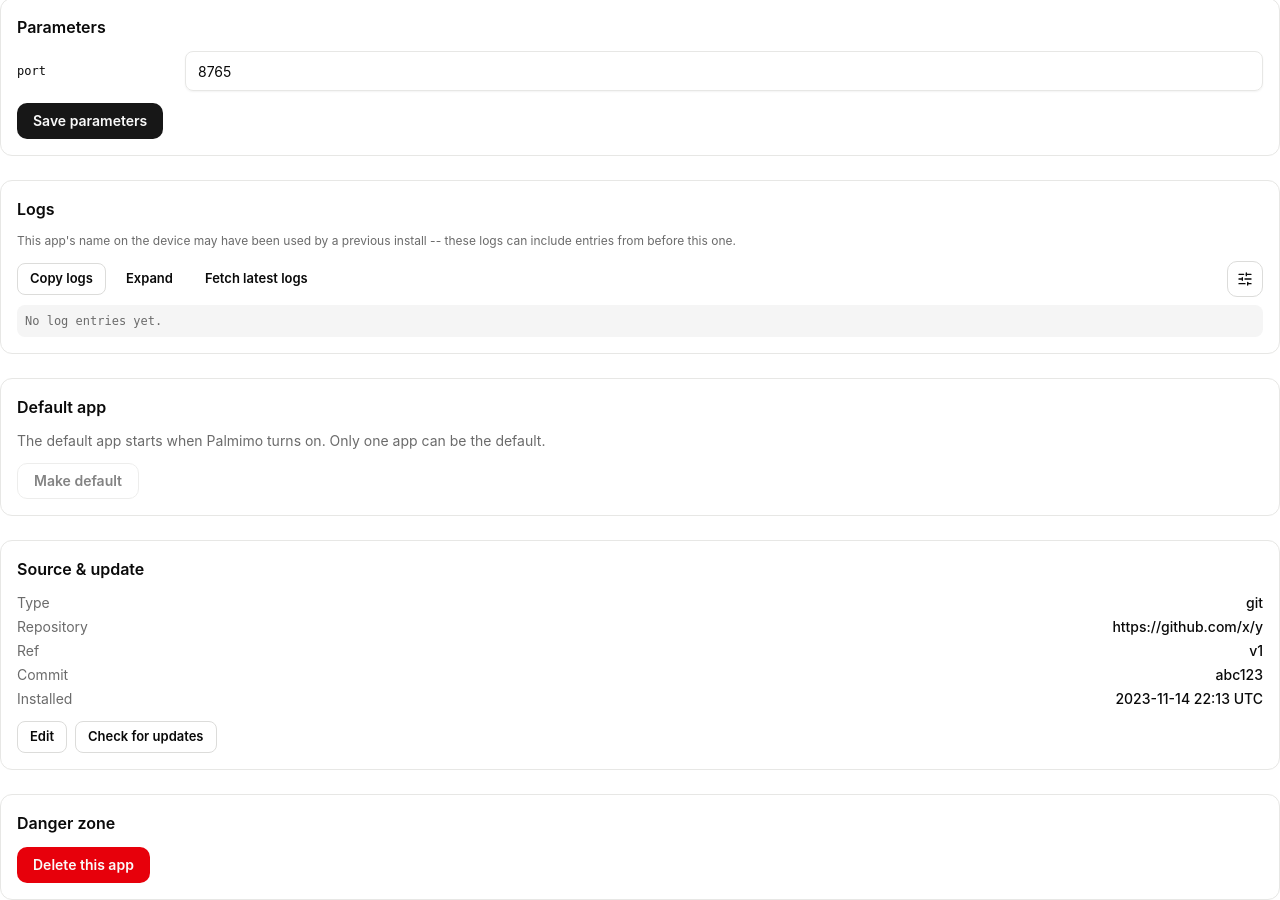
Test: warns that saving a community ref opts out of catalog updates
(page scrolled)
Click the button "Edit".
click(42, 737)  # box top-left (17, 721), bottom-right (67, 753)
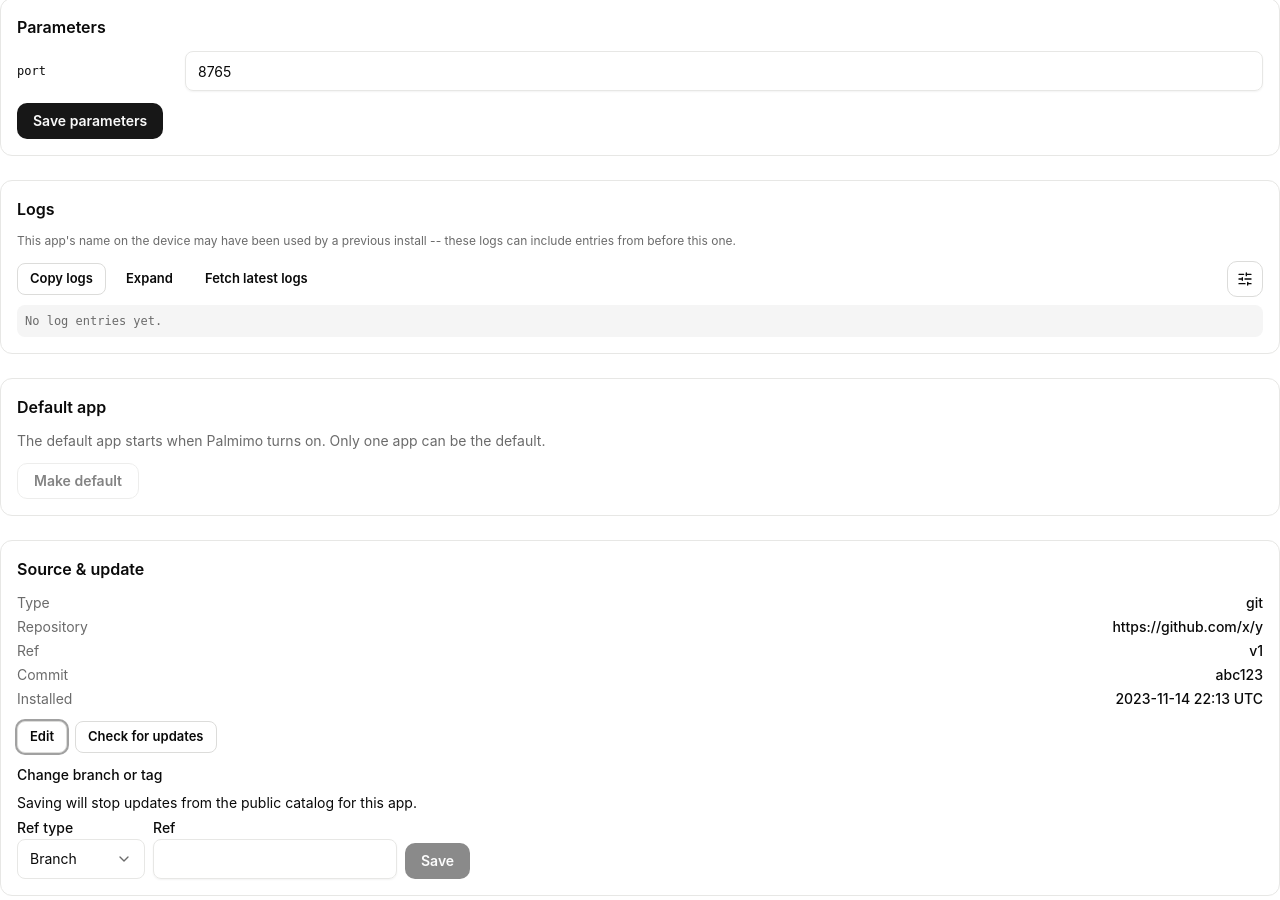
Check: the text "Saving will stop updates from the public catalog for this app." is shown, box top-left (17, 794), bottom-right (417, 811)
